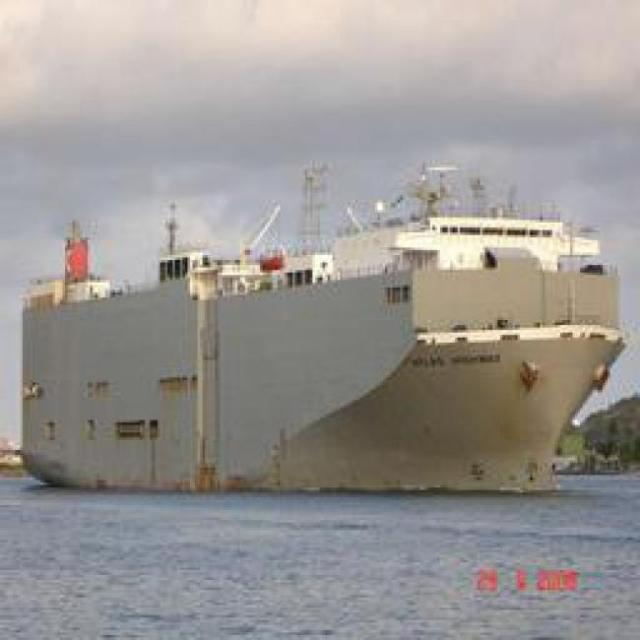boat: (2, 245, 631, 499)
